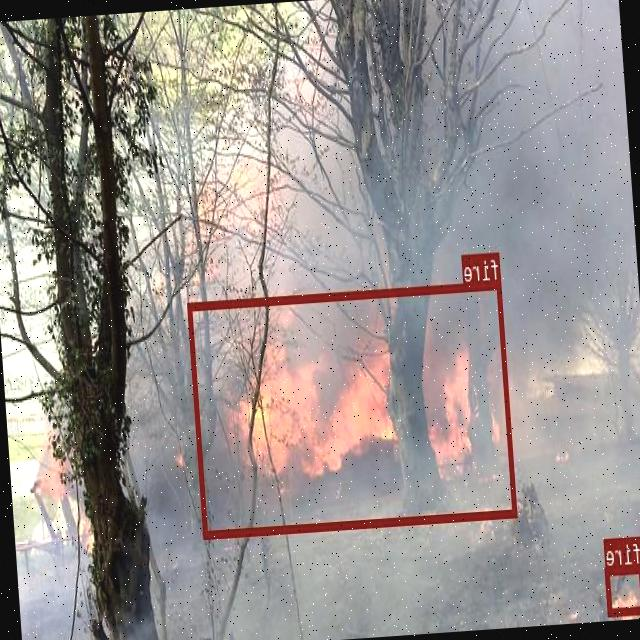fire: (188, 280, 518, 537), (606, 563, 640, 614)
